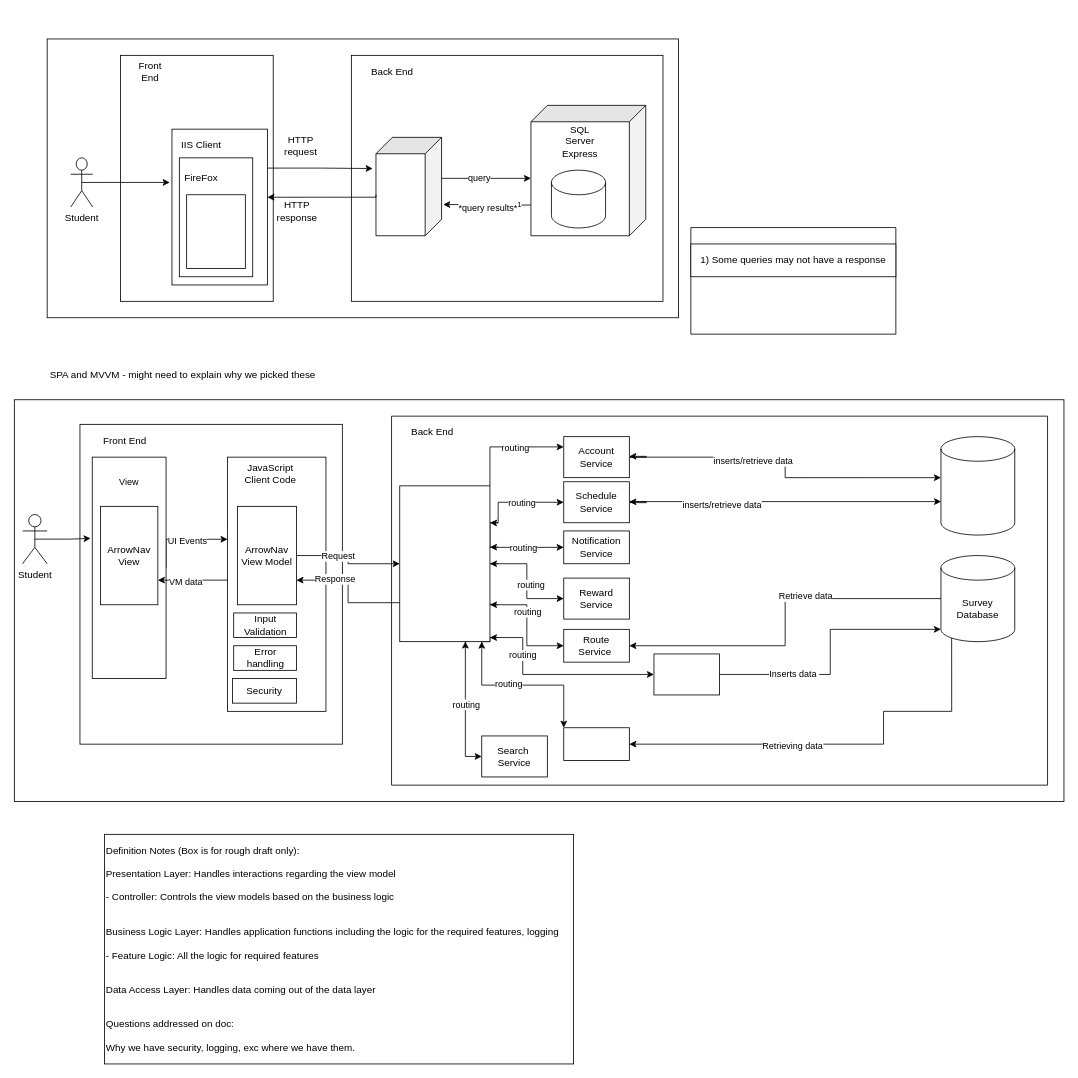
The diagram is 1078 pixels wide and 1078 high, and some of its shapes have lost their labels. The box of each missing label's shape, as (x1, y1, x2, y2) in pixels:
API Gateway: (399, 485, 490, 642)
ArrowNav: (186, 194, 245, 269)
Capacity Service: (563, 727, 629, 761)
IIS Web Server: (375, 137, 442, 236)
Legend: (690, 227, 896, 334)
SQL Database: (551, 169, 606, 228)
Survey Service: (653, 653, 720, 695)
User Database: (940, 436, 1015, 535)
